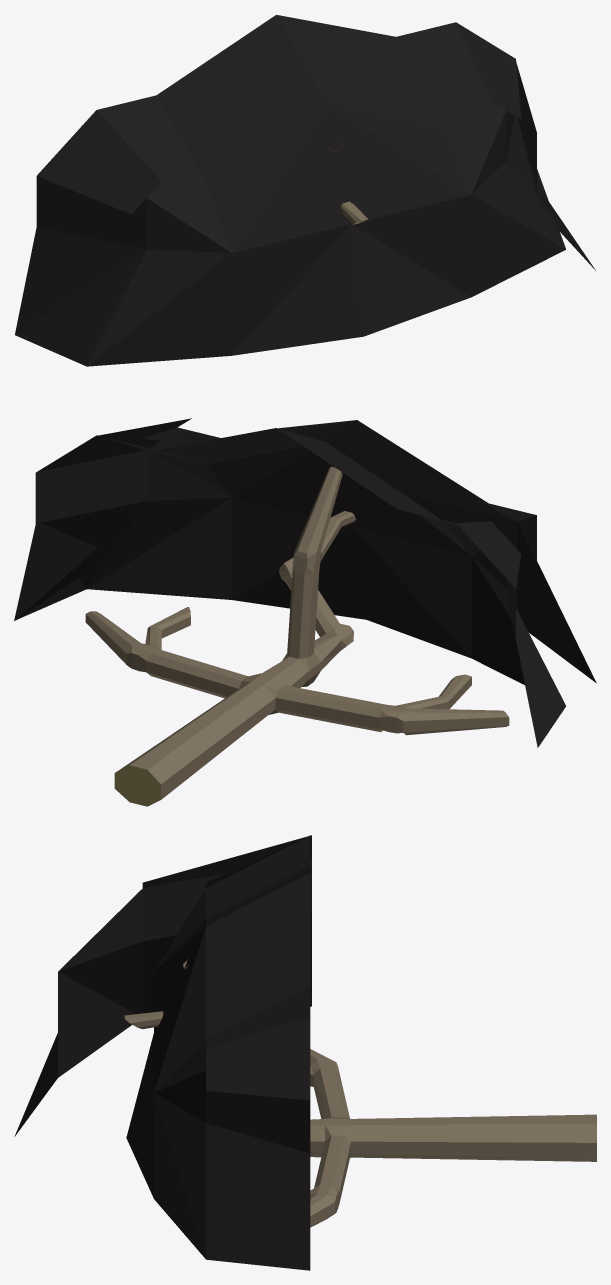
The model's file is obj_rotten_yommi_0.obj.
The picture shows the model from 3 angles, top to bottom: view 1: azimuth 30°, elevation 25°; view 2: azimuth 150°, elevation 25°; view 3: azimuth 270°, elevation 25°; orthographic projection. The views are drawn at different scales.
Bounding box in the file's own units: 3 × 1.51 × 2.8.
